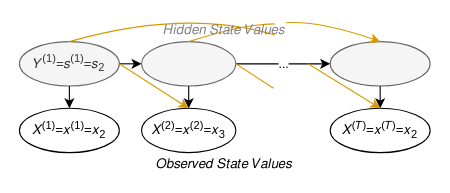
Some shapes in this 450 by 193 pixel diagram are drawn without their labels. The centre of each missing label's shape, as x and y in pixels:
𝑌 (2) =𝑠 (2) =𝑠 1: point (188, 63)
𝑌 (𝑇) =𝑠 (𝑇) =𝑠 1: point (379, 63)
